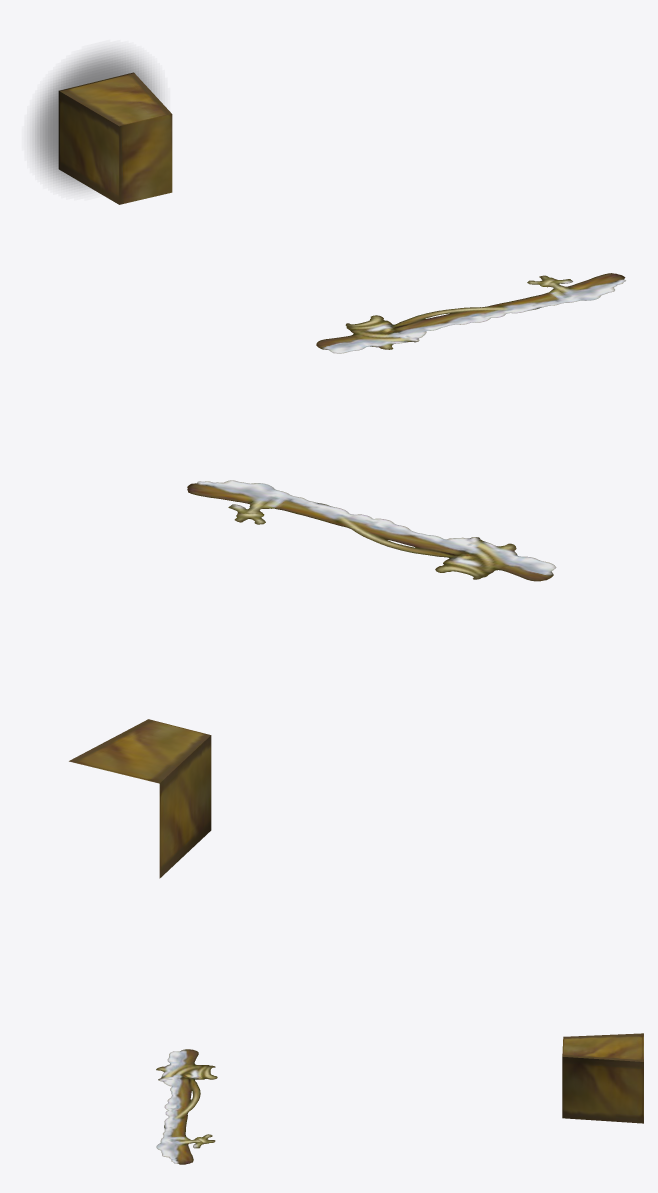
The model's file is streetlight_DD_left.glb.
The picture shows the model from 3 angles, top to bottom: view 1: azimuth 30°, elevation 25°; view 2: azimuth 150°, elevation 25°; view 3: azimuth 270°, elevation 25°; orthographic projection. The views are drawn at different scales.
Visible parts, largest first — view 1: base_left, stick_left, dropshadow_left; view 2: base_left, stick_left; view 3: base_left, stick_left.
Part boxes in pixels (left/top/right/bottom): base_left: left=58, top=72, right=172, bottom=204; stick_left: left=316, top=273, right=625, bottom=353; dropshadow_left: left=32, top=50, right=159, bottom=189; base_left: left=69, top=719, right=211, bottom=878; stick_left: left=187, top=480, right=556, bottom=581; base_left: left=562, top=1033, right=643, bottom=1123; stick_left: left=156, top=1049, right=217, bottom=1164.
Size of the model in its own units: 4.59 by 2.4 by 10.04.
Materials: 6 (6 with a texture image).
